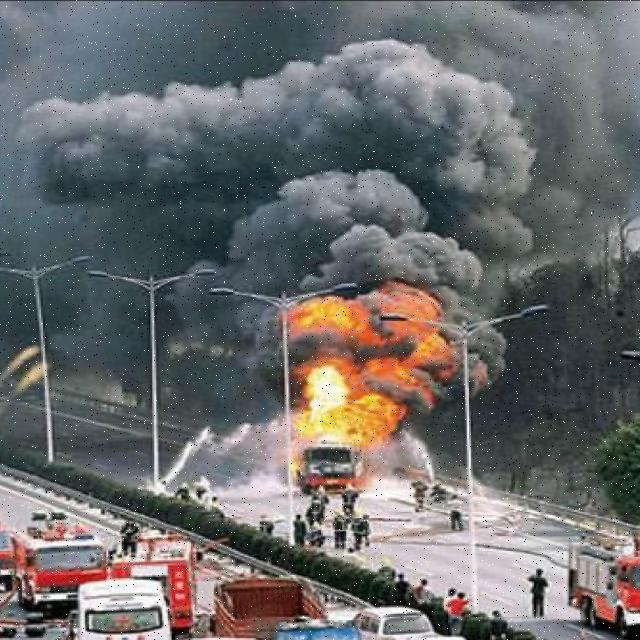fire: (260, 323, 441, 476)
smoke: (16, 0, 508, 346)
